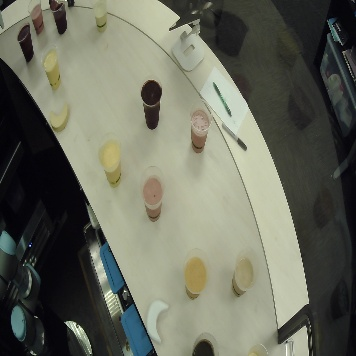full_cup: (140, 166, 166, 221), (97, 132, 123, 187), (230, 248, 258, 297), (183, 247, 208, 300), (139, 80, 162, 131), (189, 101, 212, 152), (39, 44, 63, 91), (16, 21, 35, 63), (190, 331, 219, 356), (49, 1, 66, 36), (27, 1, 45, 34), (90, 1, 108, 32), (245, 342, 268, 356)
puck: (146, 298, 169, 343), (47, 104, 71, 130)
